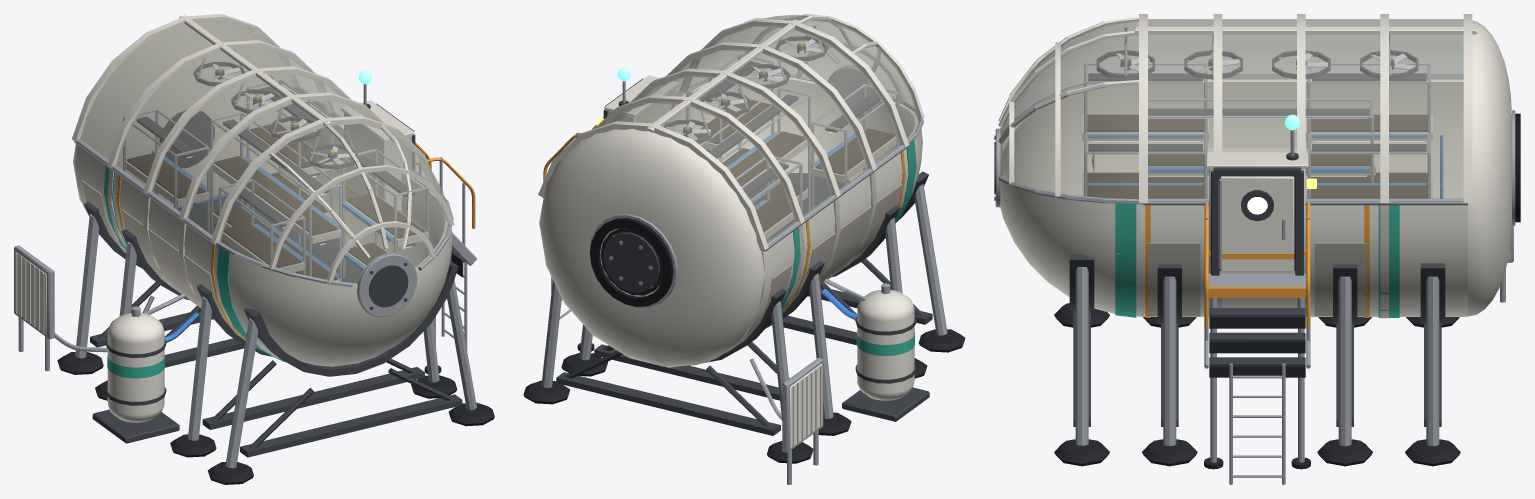
Rendered from greenhouse_v4.glb.
3 renders of one model, left to right at view 1: azimuth 30°, elevation 25°; view 2: azimuth 150°, elevation 25°; view 3: azimuth 270°, elevation 25°, orthographic. The views are drawn at different scales.
Visible parts, largest first — view 1: body, glass_dust, glass; view 2: body, glass_dust, glass; view 3: body, glass_dust, glass, service_door.
Boxes of the visible parts, <box> form: body: <box>14,14,494,484</box>; glass_dust: <box>80,20,448,284</box>; glass: <box>266,40,443,198</box>; body: <box>523,14,965,484</box>; glass_dust: <box>582,14,919,242</box>; glass: <box>582,16,916,140</box>; body: <box>994,14,1520,484</box>; glass_dust: <box>1000,19,1463,198</box>; glass: <box>1001,20,1463,134</box>; service_door: <box>1218,176,1294,271</box>.
Size of the model in its own units: 5.33 by 4.51 by 6.
